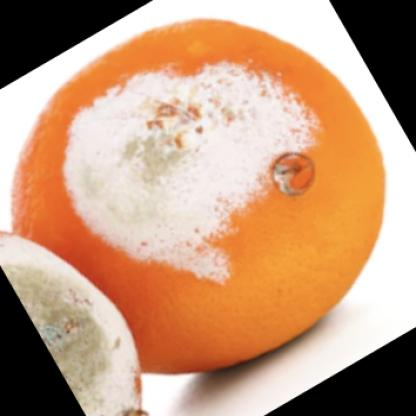rotten: (11, 19, 383, 375)
